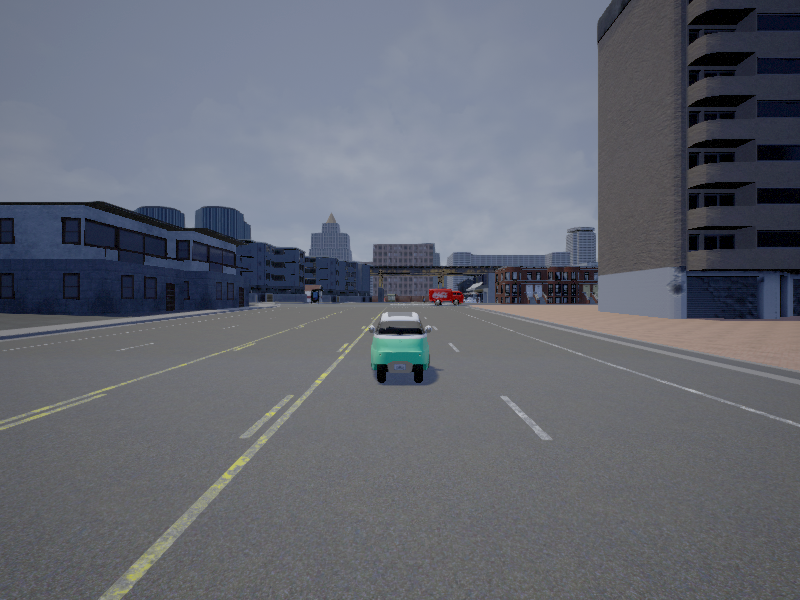Benign: (368, 313, 432, 385), (428, 289, 466, 305)
